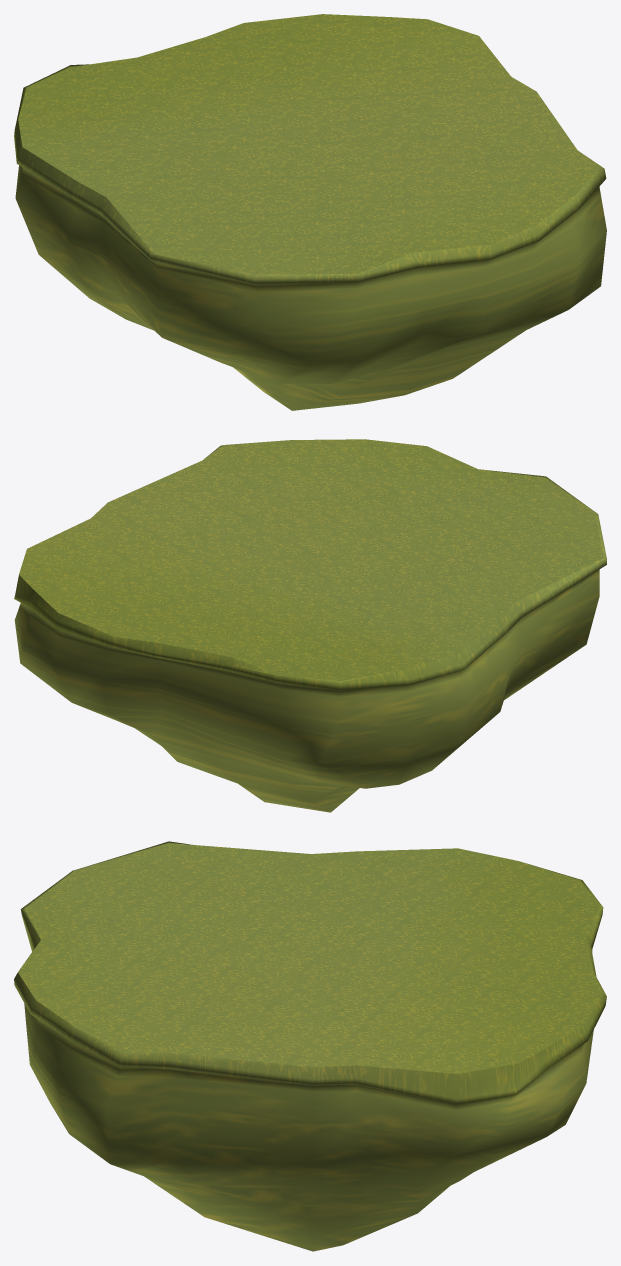
File: obj_IsleBig (1).fbx
The picture shows the model from 3 angles, top to bottom: view 1: azimuth 30°, elevation 25°; view 2: azimuth 150°, elevation 25°; view 3: azimuth 270°, elevation 25°; orthographic projection. The views are drawn at different scales.
Parts seen in each view (by area): view 1: obj_IsleBig; view 2: obj_IsleBig; view 3: obj_IsleBig.
Part boxes in pixels (<box>): obj_IsleBig: <box>14,14,606,410</box>; obj_IsleBig: <box>14,439,606,812</box>; obj_IsleBig: <box>14,841,606,1251</box>.
Size of the model in its own units: 9801 by 5277 by 10482.
